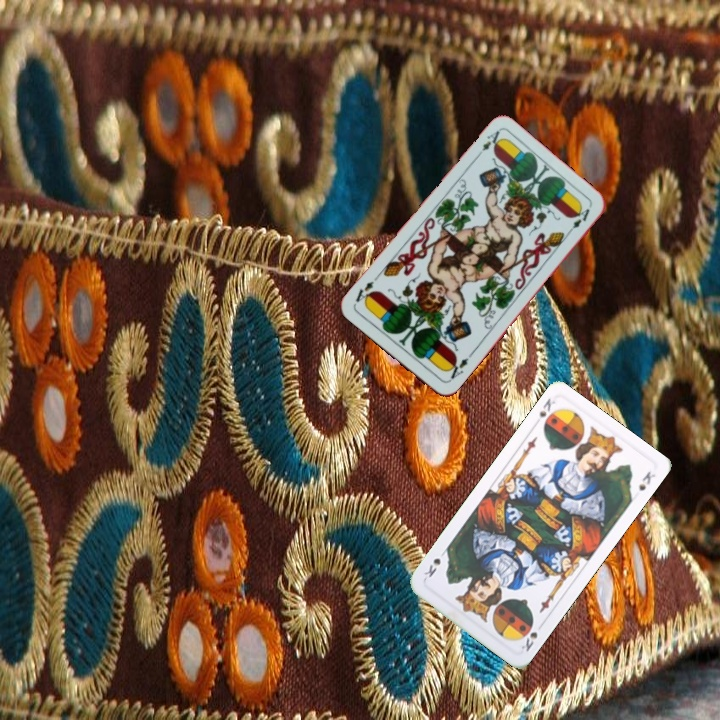EA: (472, 126, 505, 161), (442, 354, 472, 384)
SK: (531, 394, 558, 429), (517, 628, 540, 654)
